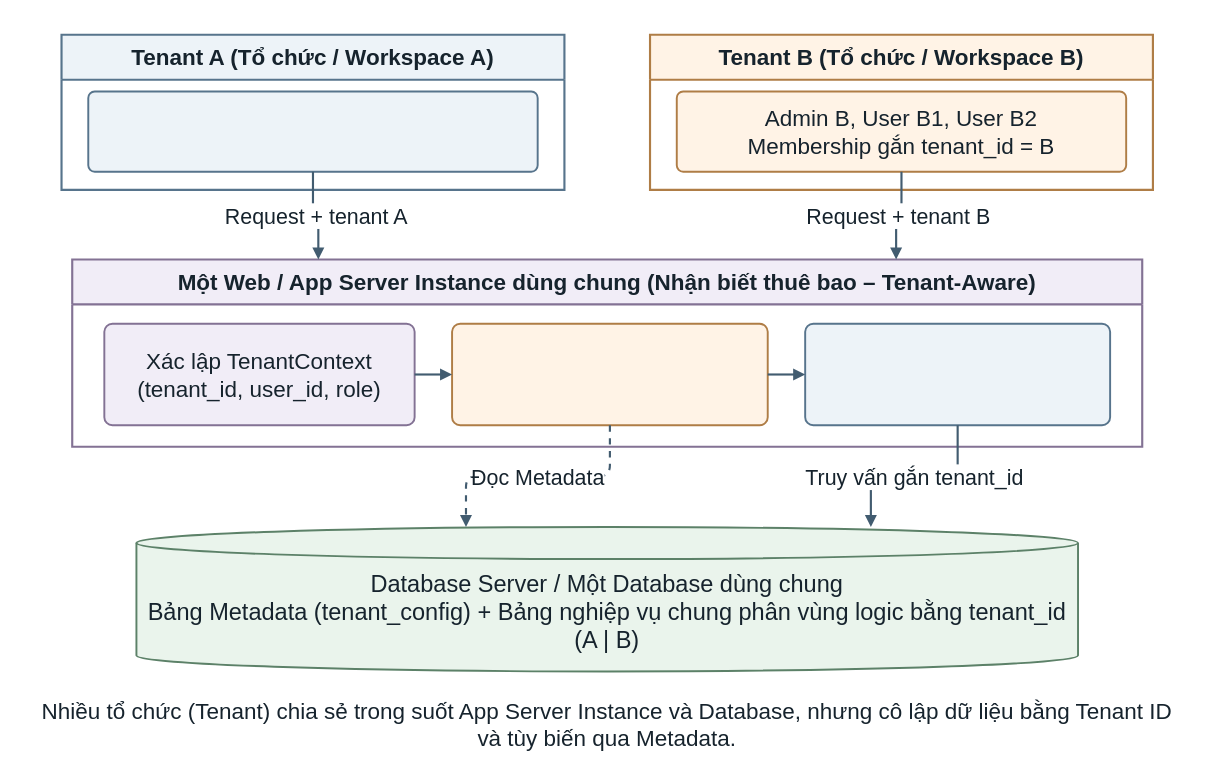
This 1213x775 diagram has some shape labels left out. Each missing label, with the centre of its shape:
Admin A, User A1, User A2 Membership gắn tenant_id = A: the point at 312,131
Thực thi nghiệp vụ chung Kiểm soát quyền & phạm vi dữ liệu: the point at 957,374
Áp dụng Metadata lúc chạy (Config A riêng | Config B riêng): the point at 609,374
